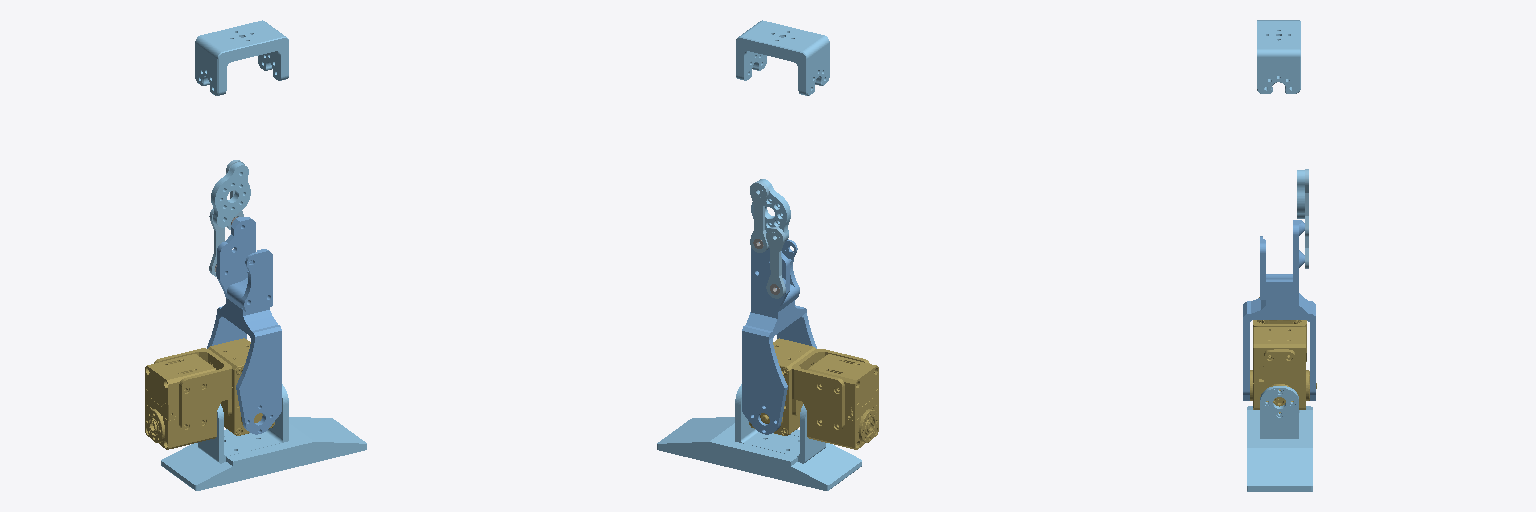
The robot description file, URDF, robot "right_leg_OP3":
<?xml version="1.0" ?><robot name="right_leg_OP3">  
  <link name="hip_yaw_link">    
    <visual>      
      <origin xyz="0 0 0" rpy="0 -0 0"/>      
      <geometry>        
        <mesh filename="package:///meshes/right_hip_yaw_link_visual.stl"/>        
      </geometry>      
      <material name="hip_yaw_link_material">        
        <color rgba="0.61568627450980395466 0.81176470588235294379 0.92941176470588238168 1.0"/>        
      </material>      
    </visual>    
    <collision>      
      <origin xyz="0 0 0" rpy="0 -0 0"/>      
      <geometry>        
        <mesh filename="package:///meshes/right_hip_yaw_link_collision.stl"/>        
      </geometry>      
    </collision>    
    <inertial>      
      <origin xyz="4.8887999145308863493e-19 6.4321318786322873916e-19 -0.0098919667346054427487" rpy="0 0 0"/>      
      <mass value="0.017999999999999988232"/>      
      <inertia ixx="2.6483505271519536081e-06" ixy="0" ixz="0" iyy="7.7055357996008217629e-06" iyz="0" izz="7.773668280680532449e-06"/>      
    </inertial>    
  </link>  

  <link name="hip_roll_link">    
    <visual>      
      <origin xyz="0 0 0" rpy="0 -0 0"/>      
      <geometry>        
        <mesh filename="package:///meshes/right_hip_roll_link_visual.stl"/>        
      </geometry>      
      <material name="hip_roll_link_material">        
        <color rgba="0.51698661238356058423 0.5034781595109349972 0.49050589017722023844 1.0"/>        
      </material>      
    </visual>    
    <collision>      
      <origin xyz="0 0 0" rpy="0 -0 0"/>      
      <geometry>        
        <mesh filename="package:///meshes/right_hip_roll_link_collision.stl"/>        
      </geometry>      
    </collision>    
    <inertial>      
      <origin xyz="-0.011999849582184064778 -0.00049598090794076004229 -0.018504111838597528394" rpy="0 0 0"/>      
      <mass value="0.11059999999836231388"/>      
      <inertia ixx="2.2818802599018418481e-05" ixy="-4.6520143285804068616e-08" ixz="-4.6888548259794506283e-08" iyy="3.0871632082338458568e-05" iyz="-5.7477343899718413041e-07" izz="3.0871666424468855328e-05"/>      
    </inertial>    
  </link>  

  <link name="right_hip_pitch_link_xm430">    
    <visual>      
      <origin xyz="0 0 0" rpy="0 -0 0"/>      
      <geometry>        
        <mesh filename="package:///meshes/right_hip_pitch_link_xm430_visual.stl"/>        
      </geometry>      
      <material name="right_hip_pitch_link_xm430_material">        
        <color rgba="0.87072221357329571134 0.72641010956094287376 0.24785169615220689621 1.0"/>        
      </material>      
    </visual>    
    <collision>      
      <origin xyz="0 0 0" rpy="0 -0 0"/>      
      <geometry>        
        <mesh filename="package:///meshes/right_hip_pitch_link_xm430_collision.stl"/>        
      </geometry>      
    </collision>    
    <inertial>      
      <origin xyz="0.00075715881371278158027 -0.050714784778880625526 -0.012656153620121986594" rpy="0 0 0"/>      
      <mass value="0.1148009013503056841"/>      
      <inertia ixx="6.6072786489385391473e-05" ixy="4.6010682906016093232e-07" ixz="1.8171597853316598418e-07" iyy="2.3633665181582008398e-05" iyz="1.4125296519935102633e-06" izz="6.2221763055418289235e-05"/>      
    </inertial>    
  </link>  

  <link name="right_calf_link">    
    <visual>      
      <origin xyz="0 0 0" rpy="0 -0 0"/>      
      <geometry>        
        <mesh filename="package:///meshes/right_calf_link_visual.stl"/>        
      </geometry>      
      <material name="right_calf_link_material">        
        <color rgba="0.522707147375079062 0.70740037950664136357 0.87533206831119547697 1.0"/>        
      </material>      
    </visual>    
    <collision>      
      <origin xyz="0 0 0" rpy="0 -0 0"/>      
      <geometry>        
        <mesh filename="package:///meshes/right_calf_link_collision.stl"/>        
      </geometry>      
    </collision>    
    <inertial>      
      <origin xyz="-0.0044344902671585514908 0.04088938884336386359 -0.0093892669849707597468" rpy="0 0 0"/>      
      <mass value="0.031000000000000003247"/>      
      <inertia ixx="3.2988539450830159979e-05" ixy="-1.5571453299274619951e-06" ixz="1.9732683818521195824e-07" iyy="7.7722801345028642319e-06" iyz="6.508648125695407498e-07" izz="2.7918707182365905571e-05"/>      
    </inertial>    
  </link>  

  <link name="bearing_683">    
    <visual>      
      <origin xyz="0 0 0" rpy="0 -0 0"/>      
      <geometry>        
        <mesh filename="package:///meshes/right_bearing_683_visual.stl"/>        
      </geometry>      
      <material name="bearing_683_material">        
        <color rgba="0.64705882352941179736 0.64705882352941179736 0.64705882352941179736 1.0"/>        
      </material>      
    </visual>    
    <collision>      
      <origin xyz="0 0 0" rpy="0 -0 0"/>      
      <geometry>        
        <mesh filename="package:///meshes/right_bearing_683_collision.stl"/>        
      </geometry>      
    </collision>    
    <inertial>      
      <origin xyz="9.7468268094077909387e-19 2.4186774283159932507e-19 -0.0015500000000000016803" rpy="0 0 0"/>      
      <mass value="0.00048694686130641793437"/>      
      <inertia ixx="2.1551456503319887385e-09" ixy="-1.008605192603736898e-27" ixz="-1.0935573393225559951e-38" iyy="2.1551456503319883249e-09" iyz="-4.9832977110102519673e-39" izz="3.5303647444715305817e-09"/>      
    </inertial>    
  </link>  

  <joint name="right_knee_front_rev_2" type="revolute">    
    <origin xyz="-0.0057402514854764195157 -0.013858192987669160079 -0.026200000000000063516" rpy="-5.1439183405559488125e-16 -2.9685331931264604348e-15 3.1359629690793391354"/>    
    <parent link="right_calf_link"/>    
    <child link="bearing_683"/>    
    <axis xyz="0 0 1"/>    
    <limit effort="1" velocity="20" lower="-6.283185307179586232" upper="6.283185307179586232"/>    
    <joint_properties friction="0.0"/>    
  </joint>  

  <link name="bearing_683_2">    
    <visual>      
      <origin xyz="0 0 0" rpy="0 -0 0"/>      
      <geometry>        
        <mesh filename="package:///meshes/right_bearing_683_2_visual.stl"/>        
      </geometry>      
      <material name="bearing_683_2_material">        
        <color rgba="0.64705882352941179736 0.64705882352941179736 0.64705882352941179736 1.0"/>        
      </material>      
    </visual>    
    <collision>      
      <origin xyz="0 0 0" rpy="0 -0 0"/>      
      <geometry>        
        <mesh filename="package:///meshes/right_bearing_683_2_collision.stl"/>        
      </geometry>      
    </collision>    
    <inertial>      
      <origin xyz="-7.6004079503603214129e-19 2.799744335846054081e-17 -0.0015499999999999982108" rpy="0 0 0"/>      
      <mass value="0.00048694686130641793437"/>      
      <inertia ixx="2.1551456503319887385e-09" ixy="-7.063165403686602894e-28" ixz="-7.8235602228308242713e-39" iyy="2.1551456503319874977e-09" iyz="3.988323221680714685e-38" izz="3.5303647444715305817e-09"/>      
    </inertial>    
  </link>  

  <joint name="right_knee_back_rev_2" type="revolute">    
    <origin xyz="0.0057402514854763960969 0.013858192987669354368 -0.026200000000000014944" rpy="2.0307557008913139329e-14 -1.7771544142448121049e-15 3.1358994637118597915"/>    
    <parent link="right_calf_link"/>    
    <child link="bearing_683_2"/>    
    <axis xyz="0 0 1"/>    
    <limit effort="1" velocity="20" lower="-6.283185307179586232" upper="6.283185307179586232"/>    
    <joint_properties friction="0.0"/>    
  </joint>  

  <link name="right_ank_pitch_link">    
    <visual>      
      <origin xyz="0 0 0" rpy="0 -0 0"/>      
      <geometry>        
        <mesh filename="package:///meshes/right_ank_pitch_link_visual.stl"/>        
      </geometry>      
      <material name="right_ank_pitch_link_material">        
        <color rgba="0.70321688500203327621 0.64514870846184457776 0.40484735422826279017 1.0"/>        
      </material>      
    </visual>    
    <collision>      
      <origin xyz="0 0 0" rpy="0 -0 0"/>      
      <geometry>        
        <mesh filename="package:///meshes/right_ank_pitch_link_collision.stl"/>        
      </geometry>      
    </collision>    
    <inertial>      
      <origin xyz="-0.017770241889542865571 0.012301334508571936874 0.018814514831173318604" rpy="0 0 0"/>      
      <mass value="0.17676376695067899658"/>      
      <inertia ixx="4.7283381546857274503e-05" ixy="1.3380598207226426526e-06" ixz="6.1532628607232562101e-07" iyy="0.00010706462535917273373" iyz="-5.1080086246313229535e-08" izz="0.00012185522398303844723"/>      
    </inertial>    
  </link>  

  <link name="ank_roll_link">    
    <visual>      
      <origin xyz="0 0 0" rpy="0 -0 0"/>      
      <geometry>        
        <mesh filename="package:///meshes/right_ank_roll_link_visual.stl"/>        
      </geometry>      
      <material name="ank_roll_link_material">        
        <color rgba="0.61568627450980395466 0.81176470588235294379 0.92941176470588215963 1.0"/>        
      </material>      
    </visual>    
    <collision>      
      <origin xyz="0 0 0" rpy="0 -0 0"/>      
      <geometry>        
        <mesh filename="package:///meshes/right_ank_roll_link_collision.stl"/>        
      </geometry>      
    </collision>    
    <inertial>      
      <origin xyz="-0.027003372529275586345 -2.0047344420266124326e-12 0.033758582145829468812" rpy="0 0 0"/>      
      <mass value="0.042599999999999998979"/>      
      <inertia ixx="3.7273661670606821517e-05" ixy="-5.5213265139054136481e-16" ixz="2.3913171754436051547e-06" iyy="3.758016044515443885e-05" iyz="5.0909543907035460515e-12" izz="1.0089086509198958482e-05"/>      
    </inertial>    
  </link>  

  <joint name="right_ank_roll" type="revolute">    
    <origin xyz="-0.022749999999997192607 1.6653345369377348106e-16 0.0189999999999991738" rpy="1.570796326794951403 -2.0579877843196441351e-14 1.5707963267948796826"/>    
    <parent link="right_ank_pitch_link"/>    
    <child link="ank_roll_link"/>    
    <axis xyz="0 0 1"/>    
    <limit effort="1" velocity="20" lower="-1.570796326794896558" upper="1.570796326794896558"/>    
    <joint_properties friction="0.0"/>    
  </joint>  

  <joint name="right_ank_pitch" type="revolute">    
    <origin xyz="0.00050000000000023441492 0.10000000000000039413 -0.029399999999999884559" rpy="-5.4667506414618354008e-16 -3.3588276253906543975e-15 -3.1415926535897877869"/>    
    <parent link="right_calf_link"/>    
    <child link="right_ank_pitch_link"/>    
    <axis xyz="0 0 1"/>    
    <limit effort="1" velocity="20" lower="-0.785398163397448279" upper="1.7453292519943295336"/>    
    <joint_properties friction="0.0"/>    
  </joint>  

  <joint name="right_knee" type="revolute">    
    <origin xyz="6.6012271456357184538e-18 -0.095999999999999877098 -0.009199999999999972089" rpy="-9.138977281102487298e-16 5.7742659530791861042e-17 3.141592653589793116"/>    
    <parent link="right_hip_pitch_link_xm430"/>    
    <child link="right_calf_link"/>    
    <axis xyz="0 0 1"/>    
    <limit effort="1" velocity="20" lower="-2.0943951023931952626" upper="0"/>    
    <joint_properties friction="0.0"/>    
  </joint>  

  <link name="xm430_plate">    
    <visual>      
      <origin xyz="0 0 0" rpy="0 -0 0"/>      
      <geometry>        
        <mesh filename="package:///meshes/right_xm430_plate_visual.stl"/>        
      </geometry>      
      <material name="xm430_plate_material">        
        <color rgba="0.61568627450980395466 0.81176470588235294379 0.92941176470588227065 1.0"/>        
      </material>      
    </visual>    
    <collision>      
      <origin xyz="0 0 0" rpy="0 -0 0"/>      
      <geometry>        
        <mesh filename="package:///meshes/right_xm430_plate_collision.stl"/>        
      </geometry>      
    </collision>    
    <inertial>      
      <origin xyz="8.5471520543368154117e-19 4.1198186879884584483e-18 -0.0024039046431217937771" rpy="0 0 0"/>      
      <mass value="0.0026999999999999997093"/>      
      <inertia ixx="2.6720434385876688324e-07" ixy="-6.8936588702566400709e-08" ixz="-2.5953127236483245287e-36" iyy="1.293311664536341083e-07" iyz="-2.0427625516522123035e-36" izz="3.8533537562751439267e-07"/>      
    </inertial>    
  </link>  

  <link name="knee_rod">    
    <visual>      
      <origin xyz="0 0 0" rpy="0 -0 0"/>      
      <geometry>        
        <mesh filename="package:///meshes/right_knee_rod_visual.stl"/>        
      </geometry>      
      <material name="knee_rod_material">        
        <color rgba="0.62051618944235198416 0.78640765248647581664 0.88594253031295022716 1.0"/>        
      </material>      
    </visual>    
    <collision>      
      <origin xyz="0 0 0" rpy="0 -0 0"/>      
      <geometry>        
        <mesh filename="package:///meshes/right_knee_rod_collision.stl"/>        
      </geometry>      
    </collision>    
    <inertial>      
      <origin xyz="0.014594553362682954542 3.7416799586905925216e-05 -0.0015996227373187303557" rpy="0 0 0"/>      
      <mass value="0.0031629468613064179276"/>      
      <inertia ixx="2.589592867711170848e-08" ixy="-3.1430030611629383791e-10" ixz="4.1682991868437332224e-10" iyy="6.0153261235254296022e-07" iyz="1.0686480871972266543e-12" izz="6.2266847675176384997e-07"/>      
    </inertial>    
  </link>  

  <joint name="right_knee_front_rev_1" type="revolute">    
    <origin xyz="-0.0057402514854763735455 -0.013858192987669271101 -0.0049999999999999992367" rpy="3.7594106814525390121e-15 -6.9096598398549006487e-16 1.5651666422844430215"/>    
    <parent link="xm430_plate"/>    
    <child link="knee_rod"/>    
    <axis xyz="0 0 1"/>    
    <limit effort="1" velocity="20" lower="-6.283185307179586232" upper="6.283185307179586232"/>    
    <joint_properties friction="0.0"/>    
  </joint>  

  <link name="knee_rod_2">    
    <visual>      
      <origin xyz="0 0 0" rpy="0 -0 0"/>      
      <geometry>        
        <mesh filename="package:///meshes/right_knee_rod_2_visual.stl"/>        
      </geometry>      
      <material name="knee_rod_2_material">        
        <color rgba="0.62051618944235198416 0.78640765248647581664 0.88594253031295022716 1.0"/>        
      </material>      
    </visual>    
    <collision>      
      <origin xyz="0 0 0" rpy="0 -0 0"/>      
      <geometry>        
        <mesh filename="package:///meshes/right_knee_rod_2_collision.stl"/>        
      </geometry>      
    </collision>    
    <inertial>      
      <origin xyz="0.014594550927656914363 3.9270448462004357089e-05 -0.0015996227373180191191" rpy="0 0 0"/>      
      <mass value="0.0031629468613064179276"/>      
      <inertia ixx="2.5896010493062238455e-08" ixy="-3.2987086147587118383e-10" ixz="4.1682984914096729936e-10" iyy="6.0153257144418870589e-07" iyz="1.1215895049805200854e-12" izz="6.2266851765936255091e-07"/>      
    </inertial>    
  </link>  

  <joint name="right_knee_back_rev_1" type="revolute">    
    <origin xyz="0.0057402514854763666066 0.01385819298766934049 -0.005000000000000016584" rpy="-5.9721322899995738745e-15 2.1763425120495147882e-14 1.5651031369169621232"/>    
    <parent link="xm430_plate"/>    
    <child link="knee_rod_2"/>    
    <axis xyz="0 0 1"/>    
    <limit effort="1" velocity="20" lower="-6.283185307179586232" upper="6.283185307179586232"/>    
    <joint_properties friction="0.0"/>    
  </joint>  

  <joint name="right_knee_act" type="revolute">    
    <origin xyz="0.00015000000000000958205 -0.061499999999999971356 -0.030399999999999996469" rpy="1.8480226030005917304e-16 2.0301725913858999669e-15 3.1415926535897922278"/>    
    <parent link="right_hip_pitch_link_xm430"/>    
    <child link="xm430_plate"/>    
    <axis xyz="0 0 1"/>    
    <limit effort="1" velocity="20" lower="-2.0943951023931952626" upper="0"/>    
    <joint_properties friction="0.0"/>    
  </joint>  

  <joint name="right_hip_pitch" type="revolute">    
    <origin xyz="-0.024000000716147704138 -0.019000000152441253592 -0.01900000015245582527" rpy="1.570796326795185216 1.5707963267947977481 0"/>    
    <parent link="hip_roll_link"/>    
    <child link="right_hip_pitch_link_xm430"/>    
    <axis xyz="0 0 1"/>    
    <limit effort="1" velocity="20" lower="-1.570796326794896558" upper="1.570796326794896558"/>    
    <joint_properties friction="0.0"/>    
  </joint>  

  <joint name="right_hip_roll" type="revolute">    
    <origin xyz="-0.018999999999999999528 -1.7604701631262654893e-16 -0.025999999999999919009" rpy="-2.8481848693987683332e-20 -1.5707963267948954478 0"/>    
    <parent link="hip_yaw_link"/>    
    <child link="hip_roll_link"/>    
    <axis xyz="0 0 1"/>    
    <limit effort="1" velocity="20" lower="-0.785398163397448279" upper="0.785398163397448279"/>    
    <joint_properties friction="0.0"/>    
  </joint>  


</robot>

--- Facts derived from the render (not from the file) ---
Views: 3 orthographic renders of the robot side by side, from view 1: azimuth 30°, elevation 25°; view 2: azimuth 150°, elevation 25°; view 3: azimuth 270°, elevation 25°.
Model right_leg_OP3 with 11 links and 10 joints (10 revolute), rooted at hip_yaw_link, posed all joints at 0.
Visible links, largest first — view 1: right_calf_link, right_ank_pitch_link, ank_roll_link, hip_yaw_link, xm430_plate; view 2: right_ank_pitch_link, ank_roll_link, right_calf_link, hip_yaw_link, knee_rod_2, xm430_plate, knee_rod; view 3: ank_roll_link, right_ank_pitch_link, right_calf_link, hip_yaw_link.
Boxes of the visible links, bbox=[...] form: right_calf_link: bbox=[207, 217, 281, 434]; right_ank_pitch_link: bbox=[145, 338, 274, 449]; ank_roll_link: bbox=[161, 384, 366, 490]; hip_yaw_link: bbox=[195, 20, 288, 95]; xm430_plate: bbox=[211, 162, 250, 227]; right_ank_pitch_link: bbox=[749, 338, 878, 449]; ank_roll_link: bbox=[657, 384, 861, 490]; right_calf_link: bbox=[742, 232, 816, 434]; hip_yaw_link: bbox=[736, 20, 829, 95]; knee_rod_2: bbox=[766, 227, 785, 298]; xm430_plate: bbox=[751, 179, 790, 240]; knee_rod: bbox=[750, 181, 768, 252]; ank_roll_link: bbox=[1247, 386, 1312, 491]; right_ank_pitch_link: bbox=[1250, 297, 1316, 413]; right_calf_link: bbox=[1243, 220, 1315, 400]; hip_yaw_link: bbox=[1257, 20, 1300, 93].
Bounding box of the posed robot: 0.138 × 0.0464 × 0.285 m (x, y, z).
9 mesh visuals loaded from 11 distinct referenced files (9 binary STL); not drawn: 2 (reference not matched to a file when rendering).
